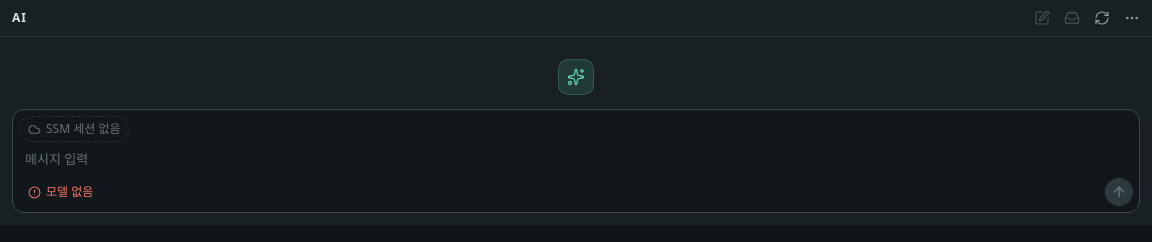
기본 채팅 화면에는 빈 선택기와 대기 문구 없이 정책 토글을 더보기 메뉴에 둔다
The image size is (1152, 242).
Expected: the text box named "메시지 입력" is shown, [19,146,1133,174]
Expected: the button named "전송" is disabled, [1105,178,1133,206]
What coordinates should you click on to do the following:
click the button named "더보기"
I would click on:
 (1132, 18)
Its box is [1118,4,1146,32].
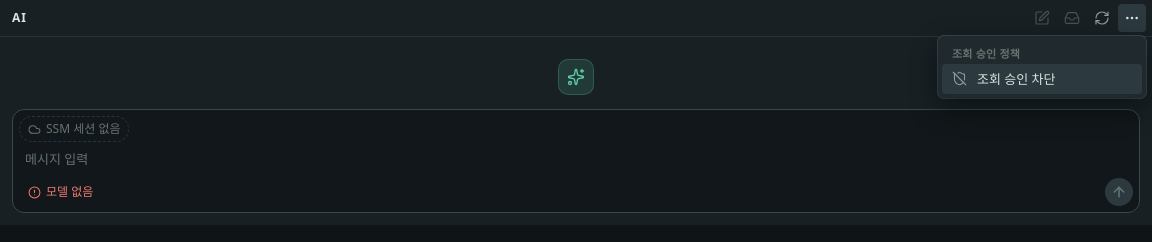
Expected: the button named "더보기" is expanded, [1118,4,1146,32]
Expected: the menu item "조회 승인 차단" is enabled, [942,64,1142,94]
